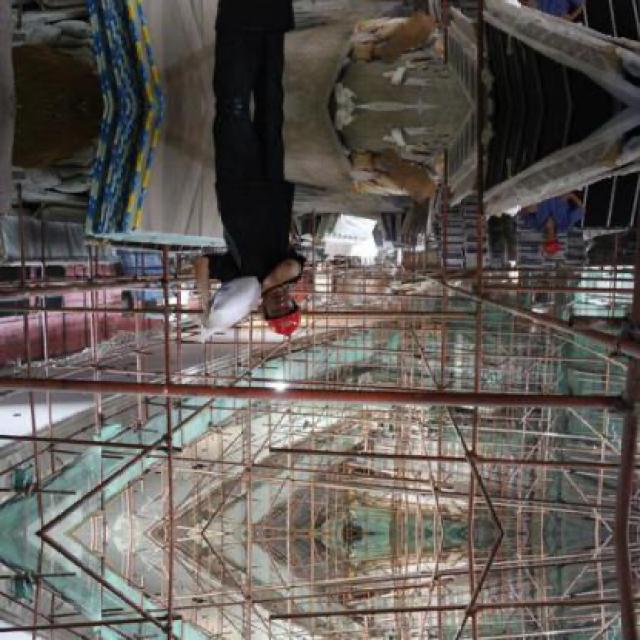con casco: (206, 273, 304, 329)
